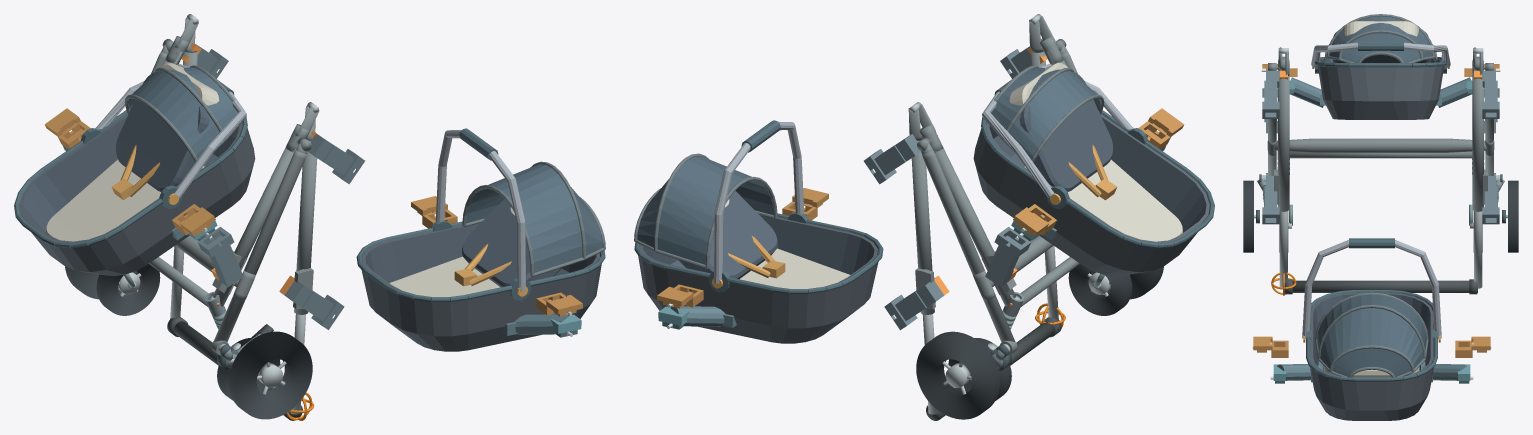
File: D04_w650_state3_wheel_S.glb
3 views of the same model, side by side, from view 1: azimuth 30°, elevation 25°; view 2: azimuth 150°, elevation 25°; view 3: azimuth 270°, elevation 25° (orthographic). The views are drawn at different scales.
Visible parts, largest first — view 1: D04_Lower, D04_Upper, RL_tire.011, V46_rear_leg_-1.011, FR_tire.011, main_lower_-1.012, main_upper_-1.012, D04_Upper_Mount_H, Universal_Cabin_Receiver_L_-1, Universal_Cabin_Receiver_H_-1, Universal_Cabin_Receiver_M_-1, D02_WideAdapter_L_1 (+10 smaller); view 2: D04_Lower, D04_Upper, RR_tire.011, V46_rear_leg_1.011, FL_tire.011, main_lower_1.012, main_upper_1.012, D04_Upper_Mount_H, Universal_Cabin_Receiver_L_1, Universal_Cabin_Receiver_H_1, Universal_Cabin_Receiver_M_1, D02_WideAdapter_L_-1 (+10 smaller); view 3: D04_Upper, D04_Lower, V46_rearbar.011, round_handle.013, main_upper_1.012, main_upper_-1.012, D04_Upper_Mount_H, D04_Lower_Mount_L, front_fixed_round_tube.011, RL_tire.011, RR_tire.011, Universal_Cabin_Receiver_M_-1 (+9 smaller).
Part boxes in pixels (x1,y1,x2,y2): D04_Lower: (14,62,255,276); D04_Upper: (356,128,605,351); RL_tire.011: (229,331,312,419); V46_rear_leg_-1.011: (214,150,306,342); FR_tire.011: (96,264,160,315); main_lower_-1.012: (213,146,297,306); main_upper_-1.012: (294,140,317,314); D04_Upper_Mount_H: (503,314,581,337); Universal_Cabin_Receiver_L_-1: (197,226,243,286); Universal_Cabin_Receiver_H_-1: (284,281,344,329); Universal_Cabin_Receiver_M_-1: (308,133,364,184); D02_WideAdapter_L_1: (44,108,90,149); D04_Lower: (973,62,1214,276); D04_Upper: (634,120,883,343); RR_tire.011: (916,331,999,419); V46_rear_leg_1.011: (922,150,1014,342); FL_tire.011: (1068,264,1132,315); main_lower_1.012: (931,146,1015,306); main_upper_1.012: (911,141,934,314); D04_Upper_Mount_H: (658,306,736,329); Universal_Cabin_Receiver_L_1: (985,227,1030,287); Universal_Cabin_Receiver_H_1: (884,281,944,330); Universal_Cabin_Receiver_M_1: (864,134,920,184); D02_WideAdapter_L_-1: (1138,108,1184,149); D04_Upper: (1302,238,1441,420); D04_Lower: (1311,14,1450,119); V46_rearbar.011: (1275,138,1486,152); round_handle.013: (1292,280,1477,292); main_upper_1.012: (1472,75,1483,211); main_upper_-1.012: (1278,75,1289,211); D04_Upper_Mount_H: (1270,361,1473,383); D04_Lower_Mount_L: (1289,77,1472,107); front_fixed_round_tube.011: (1289,151,1472,158); RL_tire.011: (1243,180,1253,252); RR_tire.011: (1508,180,1518,252); Universal_Cabin_Receiver_M_-1: (1262,70,1279,118).
Size of the model in its own units: 1.42 by 0.7843 by 0.766.
